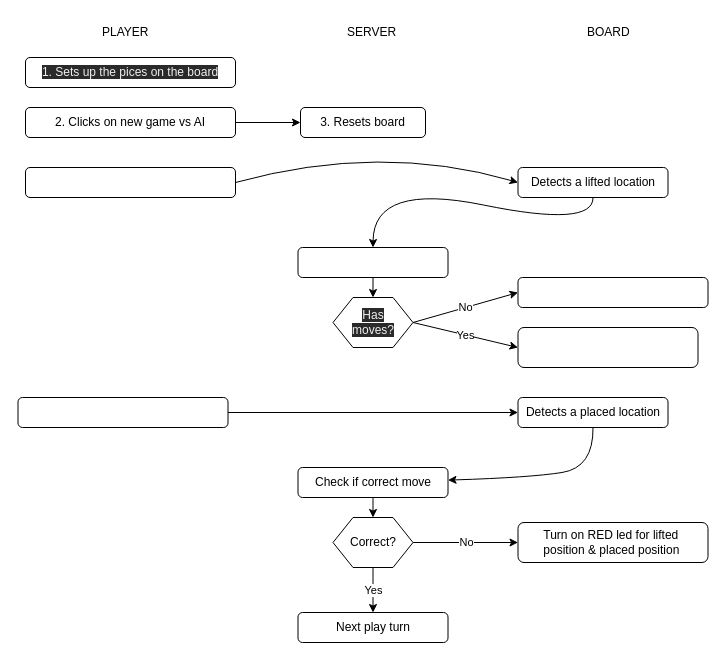
Image size: 725x660. Some labels were removed from this diagram. Each missing label, with the box of its shape:
4. Lifts a piece to move: (24, 166, 236, 198)
Check possible moves: (297, 246, 448, 278)
Places piece on desired location: (17, 396, 228, 428)
Turn on leds for lifted position & possible moves: (517, 326, 698, 368)
Turn on RED led for lifted piece: (517, 276, 708, 308)
